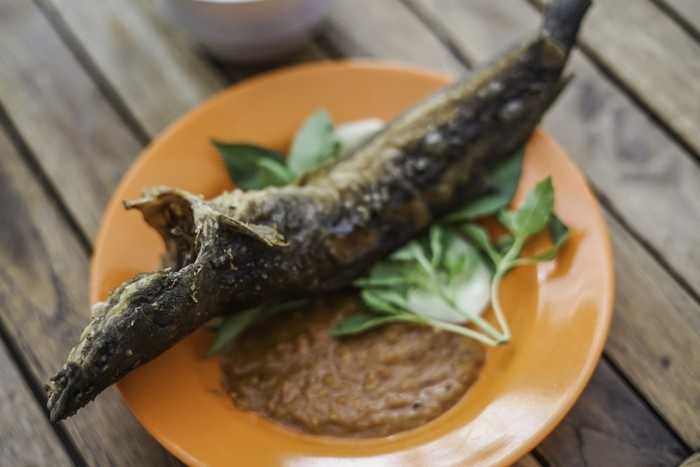pecel_lele: (41, 10, 589, 424)
